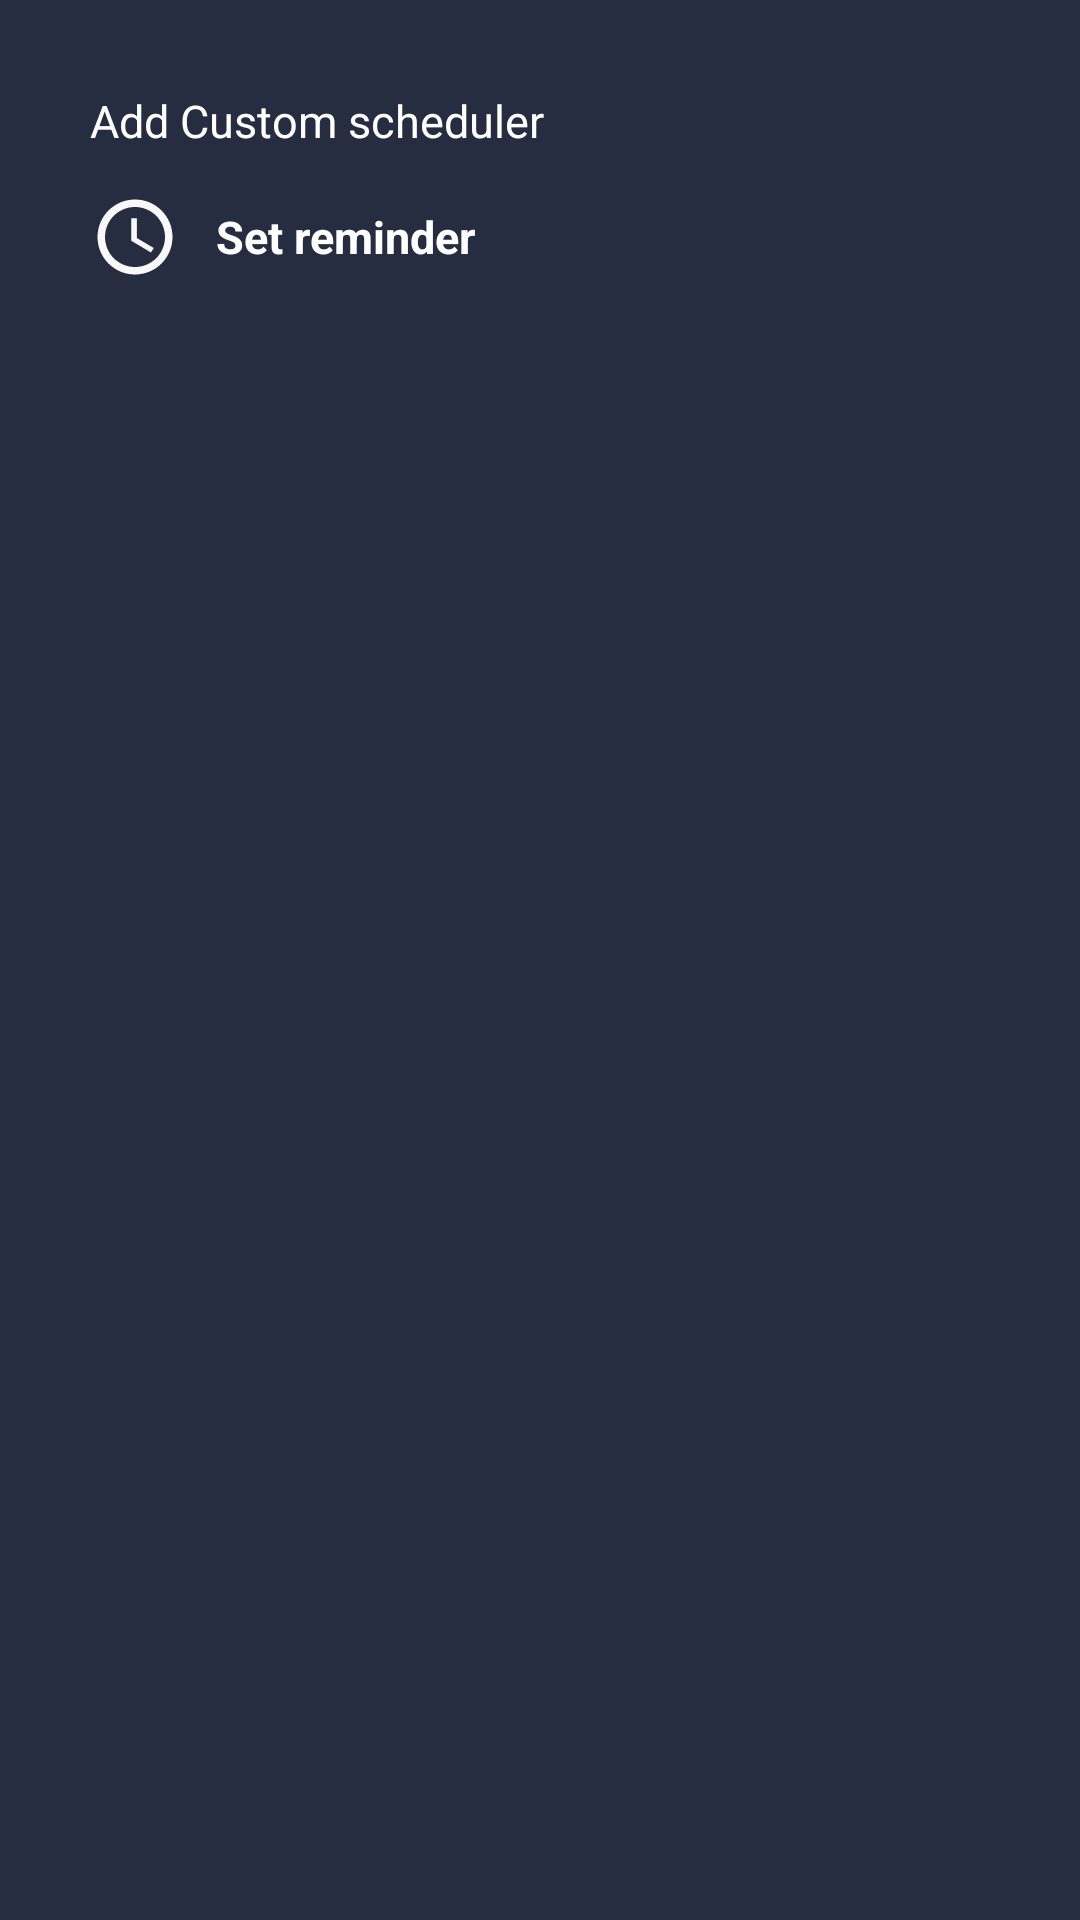

Icon click points for this 1080px x 1920px phone screenshot, format (x=x, y=y):
access time: (x=135, y=237)
